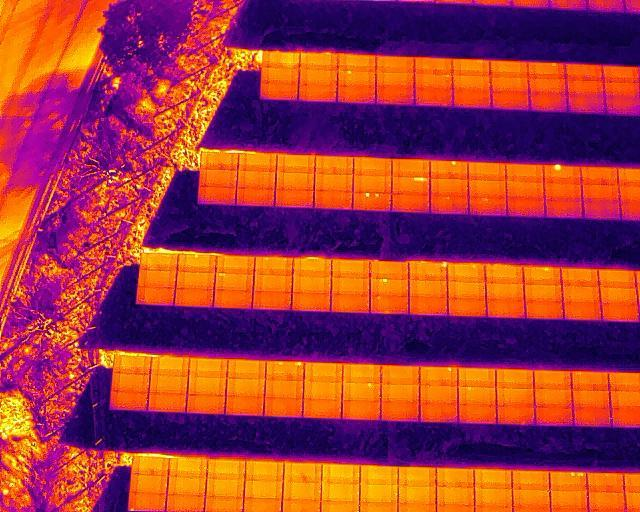Cell: (129, 493, 166, 512), (458, 387, 497, 405), (342, 382, 381, 400), (370, 278, 409, 296), (419, 366, 457, 384), (430, 160, 468, 178), (179, 255, 218, 272), (337, 70, 376, 86), (544, 165, 580, 182), (410, 263, 448, 279)
Cell-Multi: (265, 361, 305, 380), (353, 192, 392, 210), (550, 473, 587, 491), (215, 273, 253, 289)
No-Anomaly: (513, 490, 550, 512), (302, 399, 342, 419), (420, 401, 458, 422), (380, 401, 419, 421), (264, 397, 303, 417), (474, 488, 513, 508), (452, 89, 491, 109), (186, 394, 227, 413), (550, 492, 588, 512), (302, 381, 342, 400), (458, 367, 496, 387), (398, 485, 436, 505), (360, 465, 398, 485), (245, 461, 283, 481), (582, 200, 620, 220), (512, 470, 550, 490), (545, 197, 581, 218), (571, 372, 610, 391), (342, 364, 381, 383), (314, 172, 353, 191), (283, 464, 322, 483), (587, 493, 626, 512), (535, 406, 574, 425), (484, 265, 523, 284), (167, 476, 206, 495), (506, 198, 545, 217), (111, 390, 148, 410), (112, 372, 149, 392), (149, 374, 187, 393), (496, 369, 534, 388), (436, 488, 474, 507), (322, 483, 360, 502), (238, 170, 276, 189), (391, 158, 429, 177), (322, 463, 360, 482), (566, 95, 604, 114), (529, 93, 567, 112), (376, 87, 414, 106), (207, 460, 245, 479), (169, 457, 207, 476), (601, 303, 639, 322), (293, 275, 331, 294), (587, 473, 625, 492), (430, 195, 468, 214), (469, 178, 507, 197), (147, 393, 187, 411), (533, 389, 573, 407), (291, 294, 331, 312), (227, 396, 264, 415), (437, 469, 474, 488), (574, 407, 611, 426), (342, 401, 381, 419), (188, 376, 227, 394), (227, 360, 266, 378), (314, 156, 353, 174), (337, 53, 376, 71), (562, 302, 601, 320), (253, 292, 292, 310), (213, 289, 252, 307), (253, 274, 292, 292), (370, 261, 409, 279), (469, 197, 508, 215), (458, 406, 497, 424), (496, 388, 534, 406), (381, 383, 419, 401), (227, 378, 265, 396), (533, 370, 571, 388), (304, 363, 342, 381), (360, 484, 398, 502), (353, 174, 391, 192), (276, 173, 314, 191), (277, 154, 315, 172), (604, 96, 640, 115), (491, 92, 529, 110), (414, 88, 452, 106), (497, 406, 535, 424), (525, 301, 563, 319), (331, 294, 369, 312), (137, 287, 175, 305), (245, 481, 283, 499), (447, 281, 485, 299), (392, 194, 430, 212), (236, 189, 274, 207), (370, 296, 410, 313), (473, 471, 513, 488), (453, 57, 490, 75), (131, 457, 168, 475), (448, 264, 485, 282), (264, 381, 303, 398), (188, 359, 227, 376), (430, 178, 469, 195), (467, 163, 506, 180), (353, 157, 392, 174), (398, 468, 437, 485), (238, 153, 277, 170), (337, 86, 376, 103), (166, 495, 205, 512), (485, 284, 524, 301), (331, 277, 370, 294), (176, 271, 215, 288), (138, 271, 177, 288), (598, 270, 637, 287), (293, 257, 332, 274), (274, 190, 313, 207), (115, 355, 151, 373), (131, 475, 167, 493), (420, 384, 458, 401), (381, 366, 419, 383), (151, 357, 189, 374), (580, 167, 618, 184), (506, 165, 544, 182), (448, 298, 486, 315), (409, 297, 447, 314), (175, 289, 213, 306), (562, 286, 600, 303), (409, 280, 447, 297), (522, 268, 560, 285), (207, 479, 245, 496), (332, 260, 370, 277), (217, 256, 255, 273), (313, 192, 351, 209), (506, 181, 544, 198), (599, 287, 639, 303), (201, 170, 238, 187), (256, 258, 293, 275), (141, 255, 178, 272), (199, 187, 236, 204), (564, 64, 603, 80), (376, 56, 415, 72), (283, 483, 322, 499), (202, 153, 238, 170), (572, 391, 610, 407), (298, 85, 336, 101), (261, 83, 299, 99), (491, 76, 529, 92), (490, 60, 528, 76), (414, 58, 452, 74), (299, 53, 337, 69), (486, 301, 524, 317), (524, 285, 562, 301), (560, 270, 598, 286), (581, 183, 619, 199), (544, 181, 582, 197), (261, 66, 298, 82), (603, 66, 640, 82), (262, 51, 299, 67), (528, 78, 567, 93), (453, 74, 492, 89), (528, 62, 564, 78), (610, 372, 640, 391), (415, 73, 453, 88), (376, 72, 414, 87), (299, 70, 337, 85), (609, 391, 640, 408), (603, 82, 640, 96), (567, 81, 603, 95), (611, 408, 640, 425), (620, 201, 640, 220), (617, 168, 640, 184), (618, 185, 640, 201)
Unclassified: (392, 177, 430, 194)
